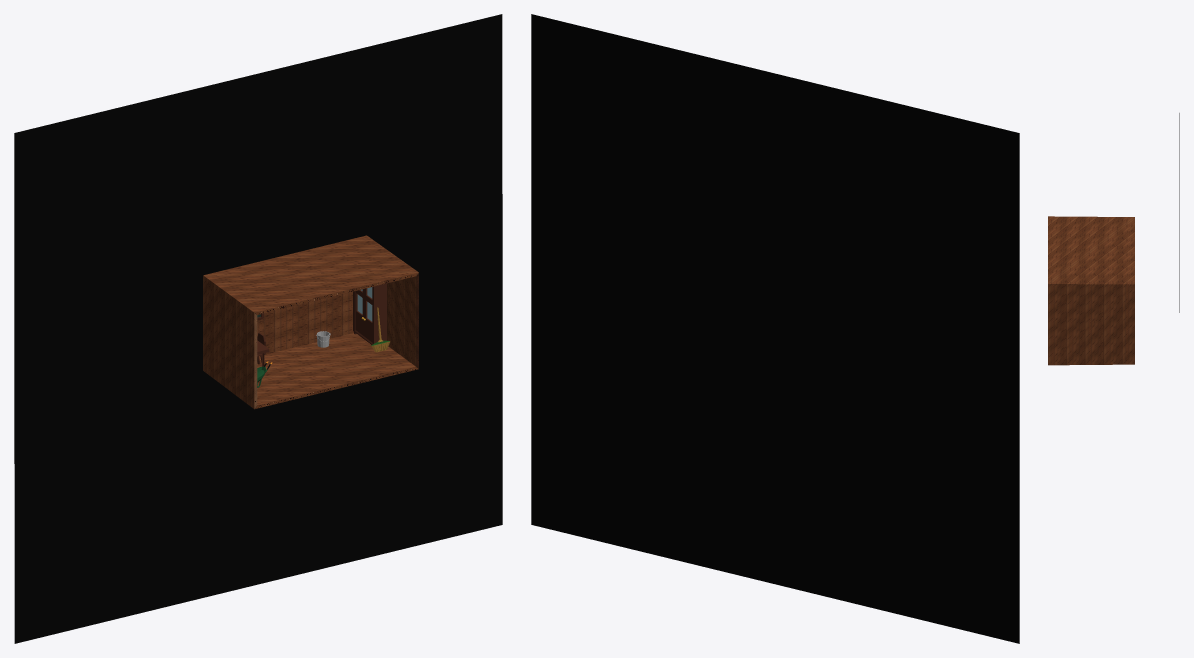
The model's file is inside_staffroom.fbx.
3 views of the same model, side by side, from view 1: azimuth 30°, elevation 25°; view 2: azimuth 150°, elevation 25°; view 3: azimuth 270°, elevation 25° (orthographic). The views are drawn at different scales.
Visible parts, largest first — view 1: Plane, Cube, dolap; view 2: Plane; view 3: Cube.
Part boxes in pixels (x1,y1,x2,y2): Plane: (14,14,502,643); Cube: (203,235,418,409); dolap: (353,283,386,344); Plane: (531,14,1019,643); Cube: (1048,216,1134,365).
Bounding box in the file's own units: 5450 × 5450 × 1516.
